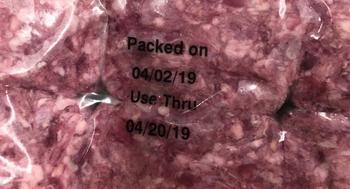ground_beef: (239, 17, 333, 184), (23, 26, 82, 155)
